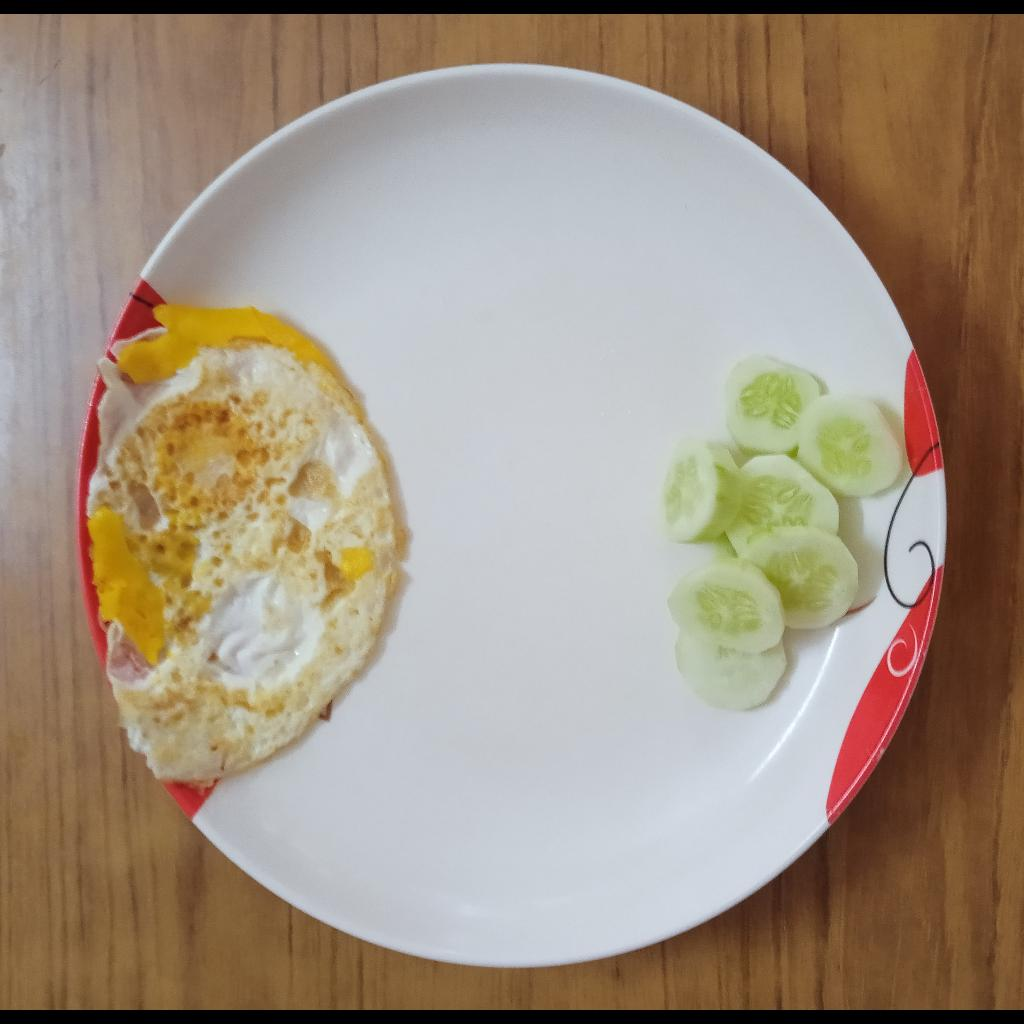cucumber: (660, 358, 907, 720)
egg-poached: (83, 304, 407, 789)
